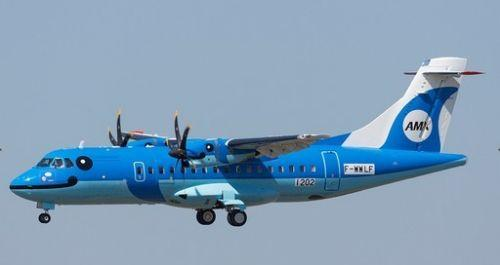airplane: (8, 54, 486, 226)
